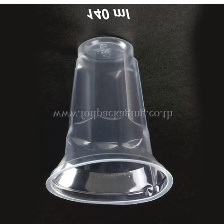glass: (41, 28, 180, 210)
